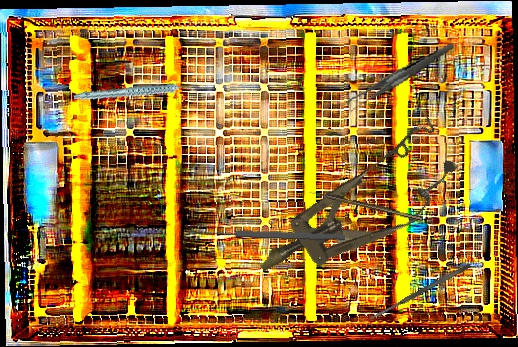Dressing Forceps: (338, 43, 463, 113)
Handpiece: (72, 67, 198, 120)
Hook Surgical: (308, 188, 424, 222)
Spatula Surgical: (368, 262, 472, 322)
Speculum: (239, 115, 472, 304)
Surgical Spoon: (188, 227, 346, 242)
